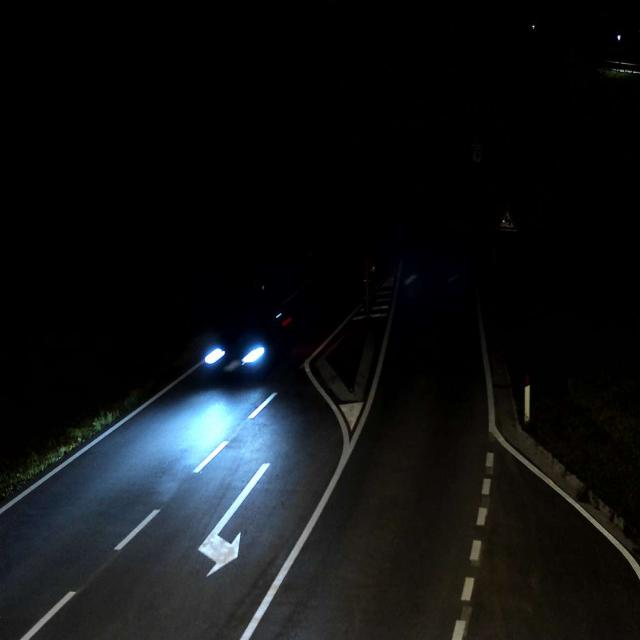car: (203, 305, 292, 376)
